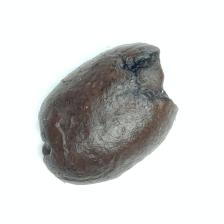NG: (116, 42, 178, 116), (37, 111, 59, 168)
